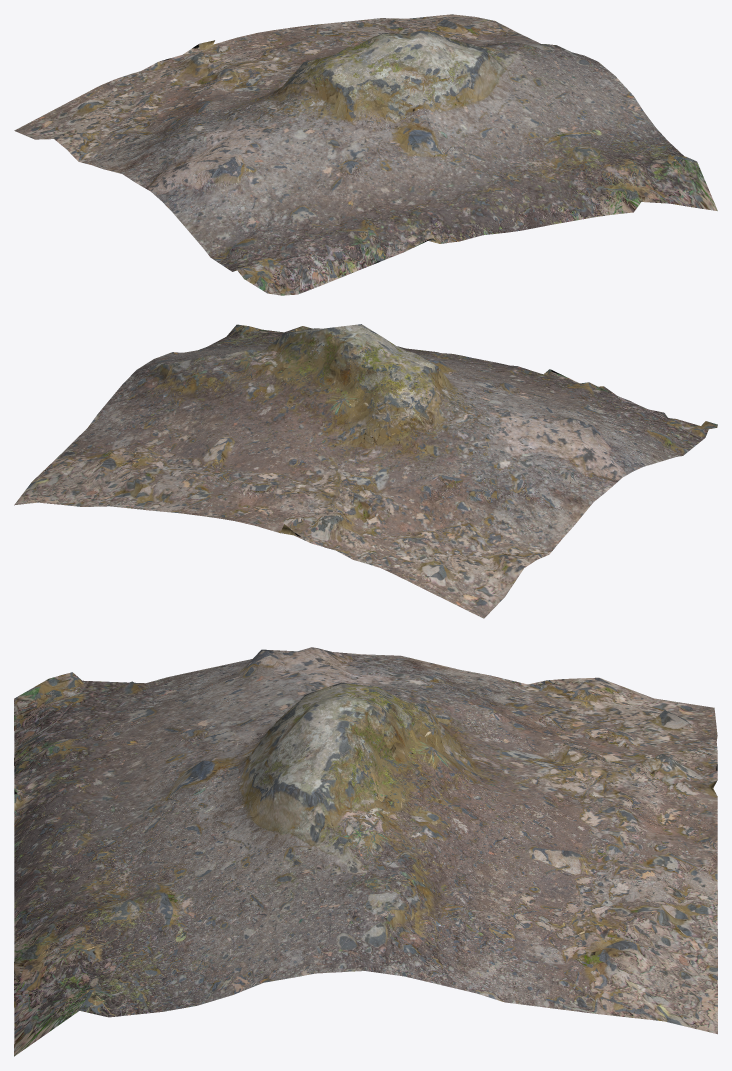
Rendered from Prop_Nature_Ground_Stone.fbx.
The picture shows the model from 3 angles, top to bottom: view 1: azimuth 30°, elevation 25°; view 2: azimuth 150°, elevation 25°; view 3: azimuth 270°, elevation 25°; orthographic projection. The views are drawn at different scales.
Parts seen in each view (by area): view 1: Prop_Nature_Ground_Stone; view 2: Prop_Nature_Ground_Stone; view 3: Prop_Nature_Ground_Stone.
Boxes of the visible parts, <box> form: Prop_Nature_Ground_Stone: <box>14,14,717,295</box>; Prop_Nature_Ground_Stone: <box>14,324,717,618</box>; Prop_Nature_Ground_Stone: <box>14,647,717,1056</box>.
Bounding box in the file's own units: 210 × 61.7 × 191.
